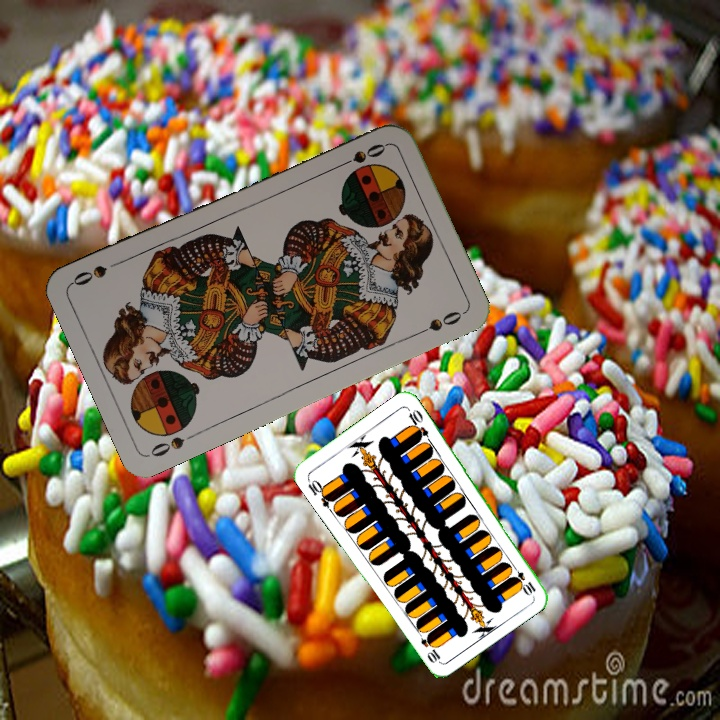E10: (303, 474, 336, 510), (507, 561, 539, 597)
SO: (146, 427, 201, 460), (334, 139, 390, 171)
